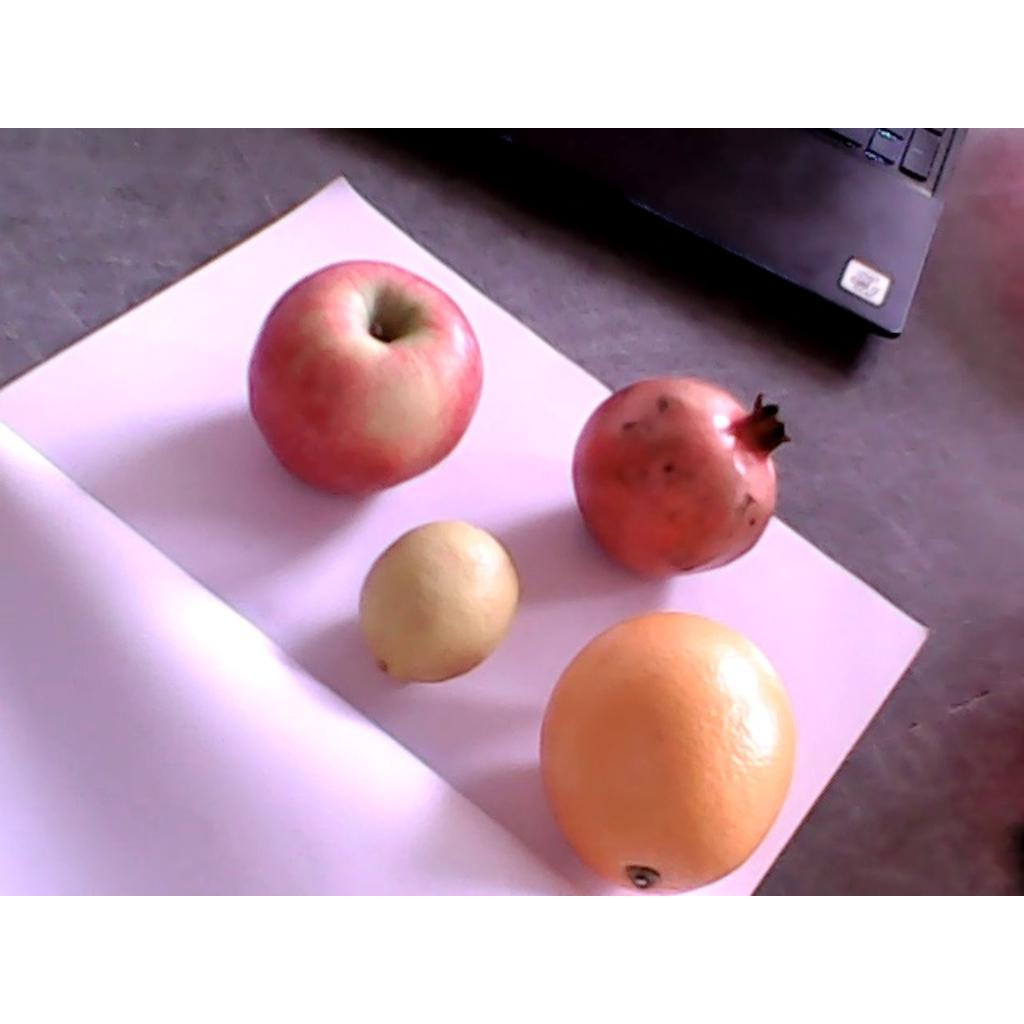apple: (247, 258, 484, 498)
lemon: (358, 522, 519, 684)
orange: (542, 610, 795, 894)
pomegranate: (573, 374, 792, 578)
